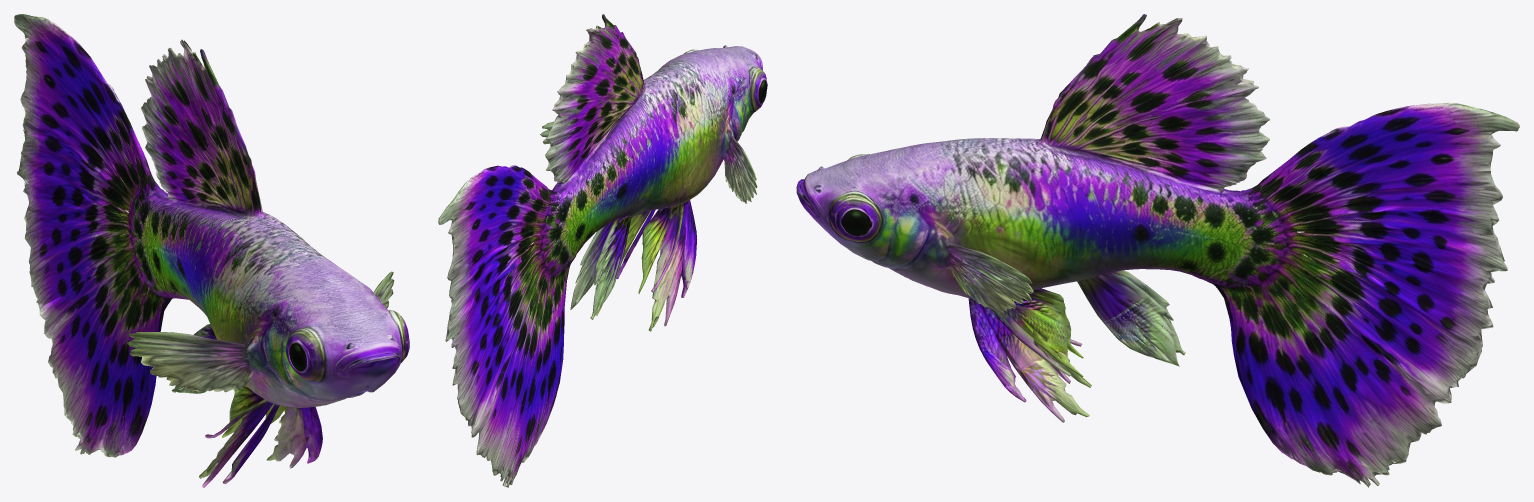
The model's file is guppy-4.glb.
3 renders of one model, left to right at view 1: azimuth 30°, elevation 25°; view 2: azimuth 150°, elevation 25°; view 3: azimuth 270°, elevation 25°, orthographic. The views are drawn at different scales.
Visible parts, largest first — view 1: Body; view 2: Body; view 3: Body.
Part boxes in pixels (left/top/right/bottom): Body: left=14, top=14, right=409, bottom=487; Body: left=438, top=14, right=767, bottom=487; Body: left=796, top=14, right=1519, bottom=487.
Size of the model in its own units: 0.2339 by 0.4107 by 0.5694.
Materials: 1 (1 with a texture image).
